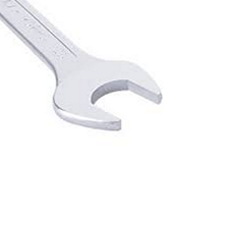wrench: (1, 1, 175, 130)
